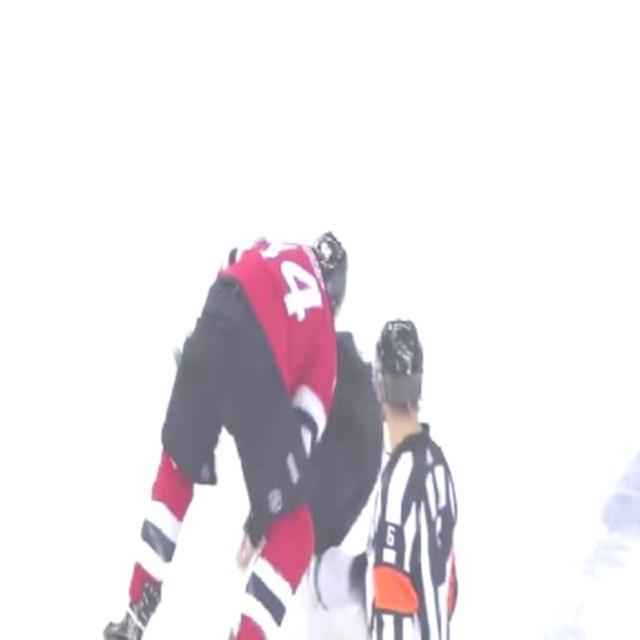fight: (142, 198, 362, 640)
